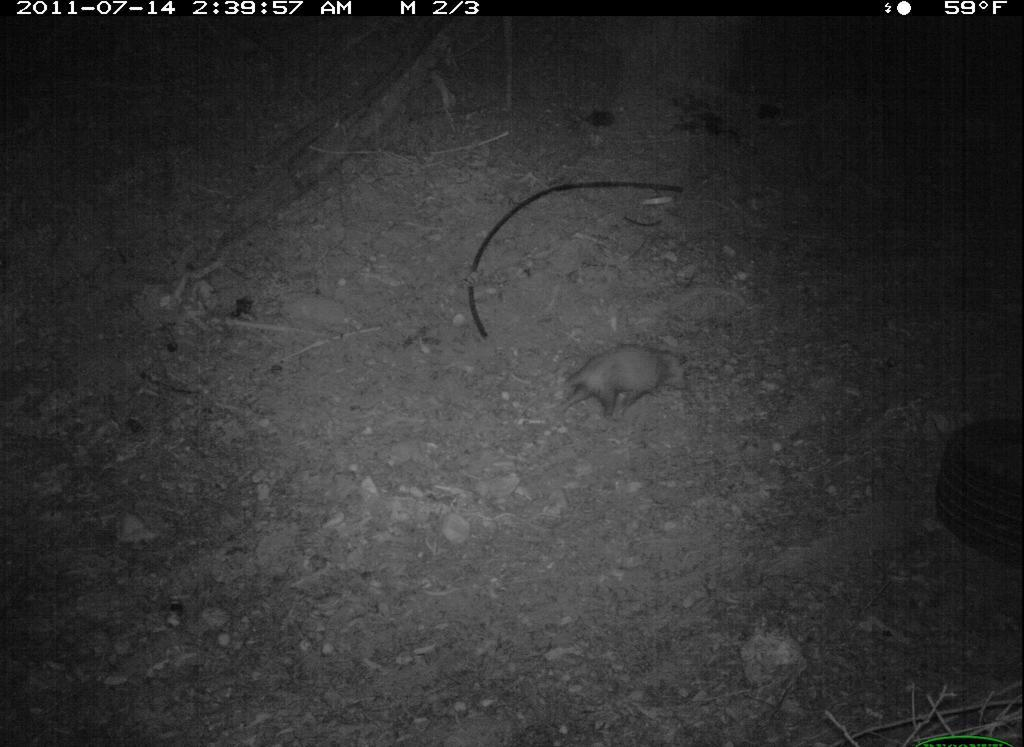opossum: (524, 314, 716, 437)
